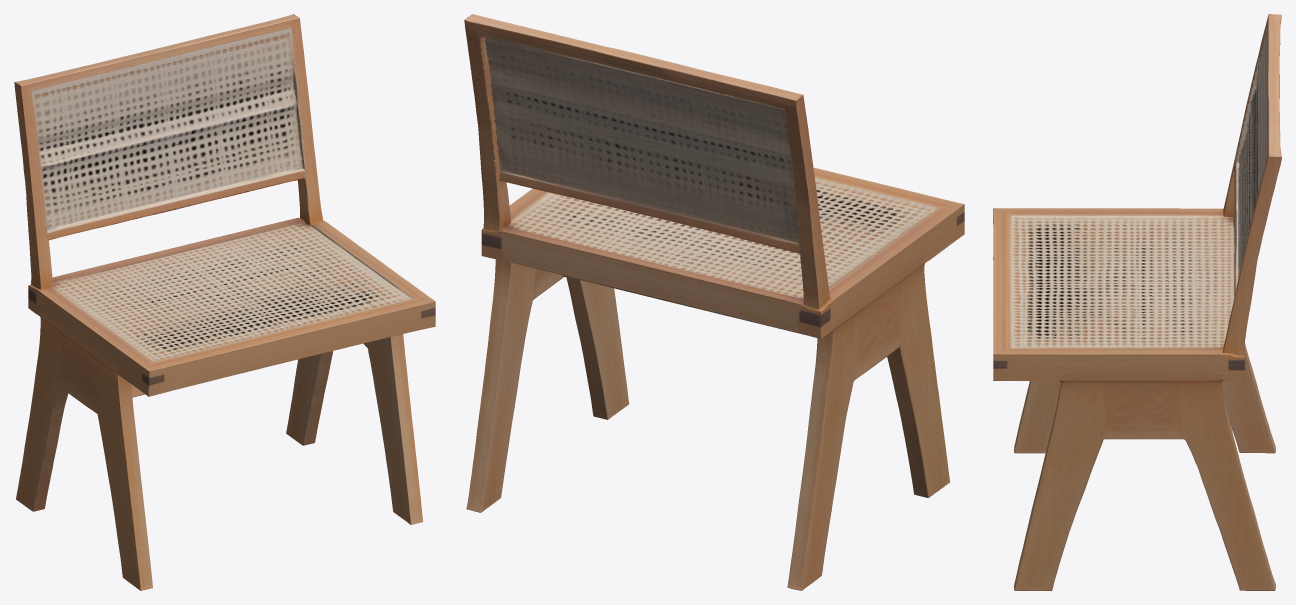
Rendered from 니어_라탄_사이드_체어.glb.
3 views of the same model, side by side, from view 1: azimuth 30°, elevation 25°; view 2: azimuth 150°, elevation 25°; view 3: azimuth 270°, elevation 25° (orthographic). The views are drawn at different scales.
Parts seen in each view (by area): view 1: world; view 2: world; view 3: world.
Part boxes in pixels (bbox=[...]): world: bbox=[14, 14, 435, 590]; world: bbox=[464, 14, 964, 590]; world: bbox=[993, 14, 1281, 590].
Bounding box in the file's own units: 0.7222 × 1 × 0.6032.
Materials: 1 (1 with a texture image).
